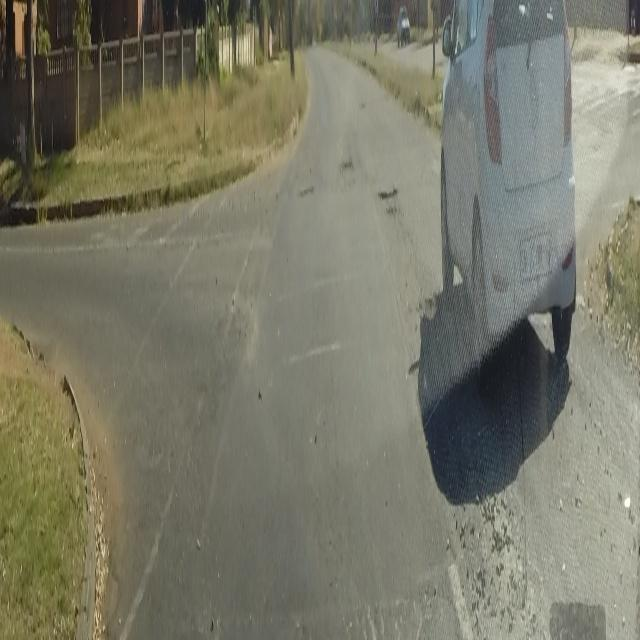pothole: (377, 180, 398, 204), (338, 148, 352, 172), (297, 186, 314, 199)
